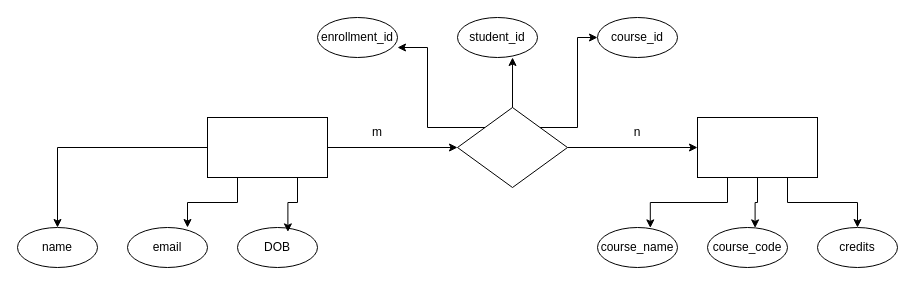
This 915x285 diagram has some shape labels left out. Here are the shapes that lost their labels. From the top down, the box of each, then its label:
(206, 116, 328, 178): Student
(456, 106, 568, 188): Enrolls
(696, 116, 818, 178): Course
